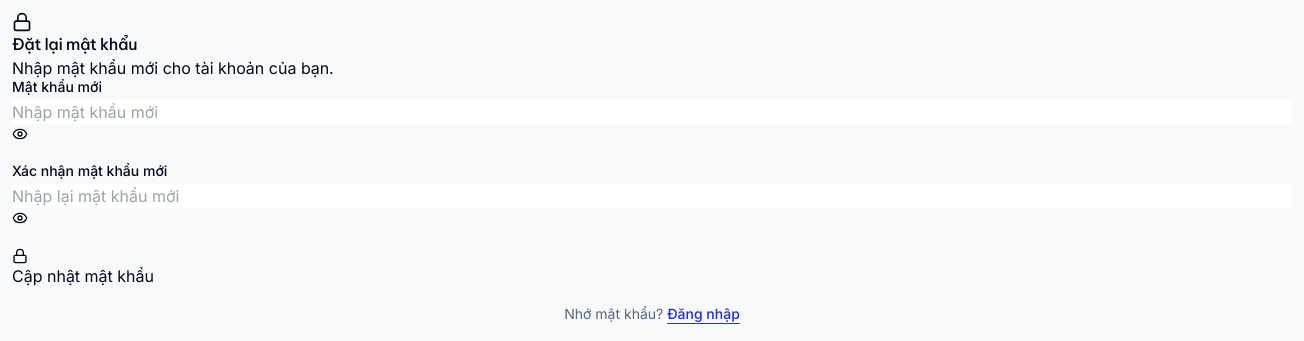
Scenario: ResetPasswordPage › shows success message on successful password reset
The width and height of the screenshot is (1304, 341).
Type "password123" into the password field labelled "Mật khẩu mới" at [652, 112], box [12,100,1292,124]
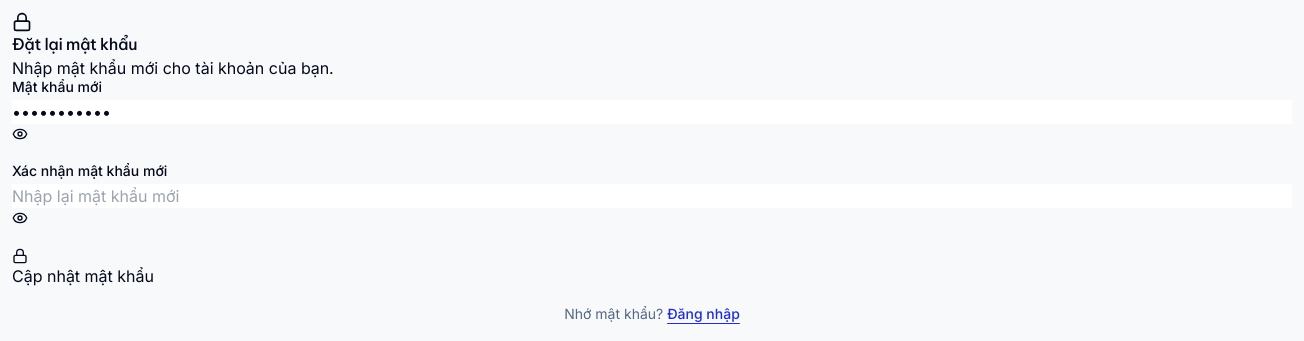
Type "password123" into the password field labelled "Xác nhận mật khẩu mới" at [652, 196], box [12,184,1292,208]
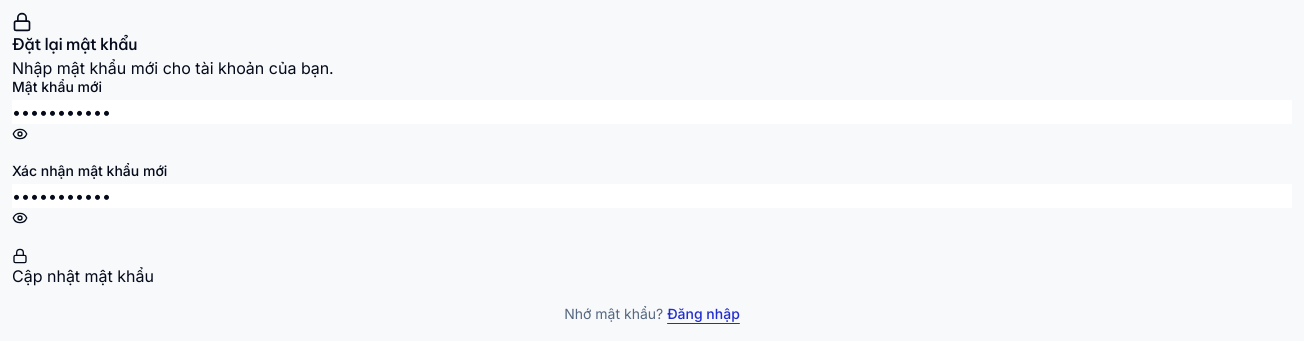
Click the button "Cập nhật mật khẩu" at [83, 268], box [12,248,154,288]
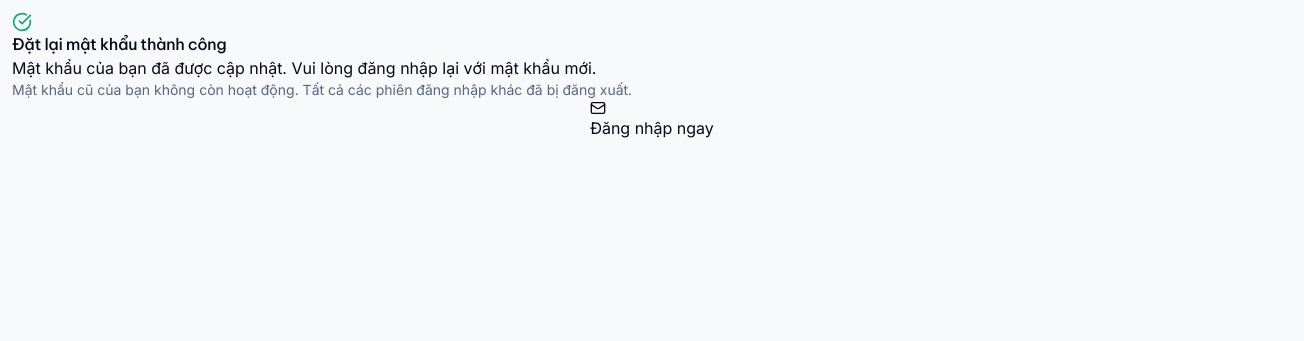
Expected: the heading "Đặt lại mật khẩu thành công" is shown, [12,12,226,54]
Expected: the text "Mật khẩu của bạn đã được cập nhật. Vui lòng đăng nhập lại với mật khẩu mới." is shown, [12,58,596,78]
